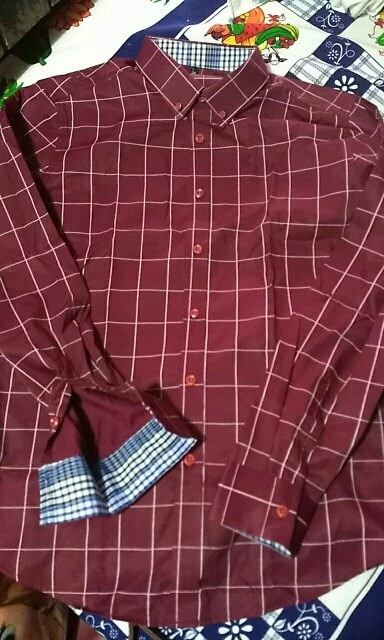shirts: (5, 35, 384, 617)
